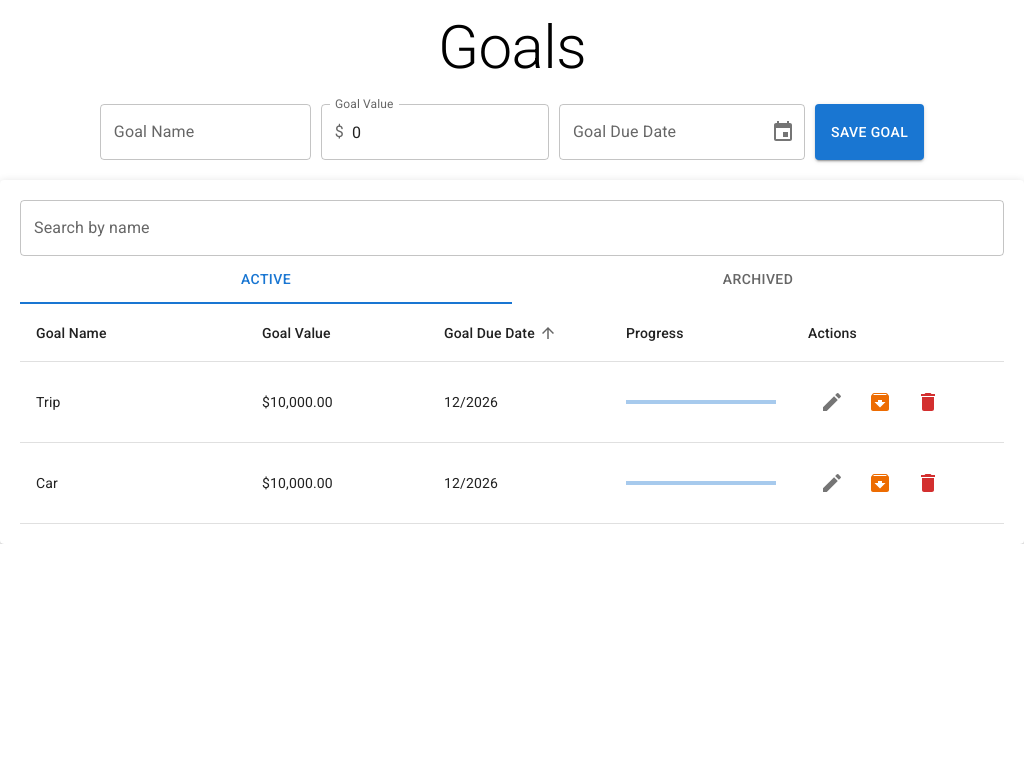
Test case: Goals page › should filter goals by search input
Expected: the text "Trip" is shown, [20,362,246,443]
Expected: the text "Car" is shown, [20,443,246,524]
Type "Trip" into the field labelled "Search by name". click: (512, 228)
box: [20,200,1004,256]
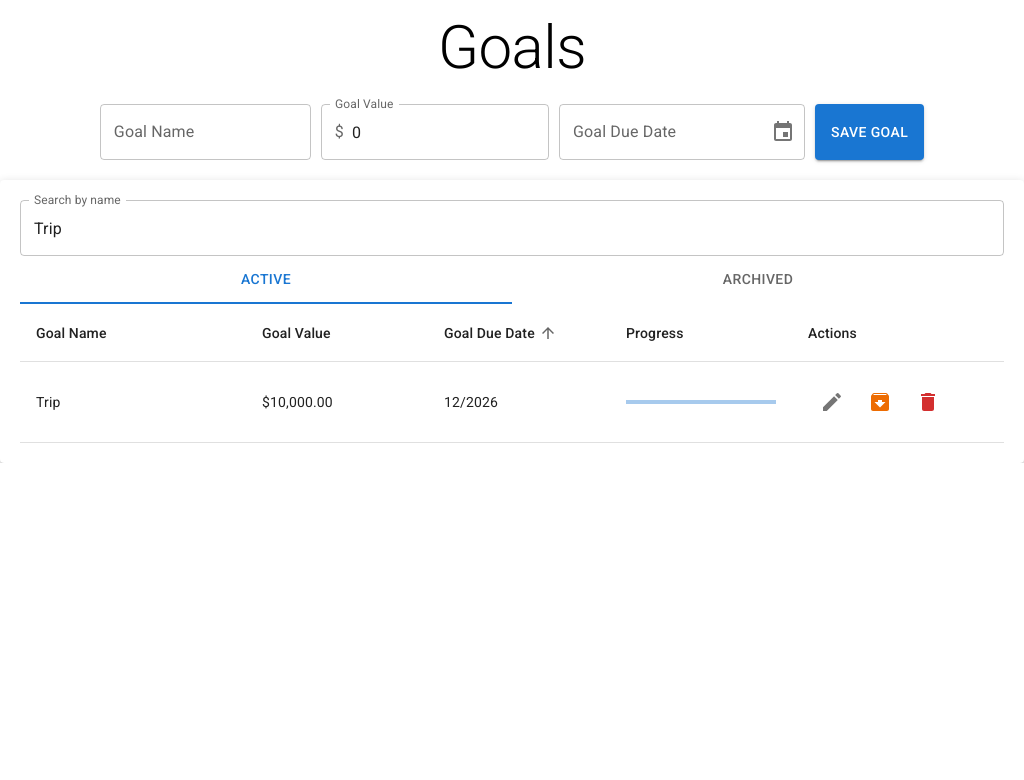
Expected: the text "Trip" is shown, [20,362,246,443]
Expected: the text "Car" is gone
